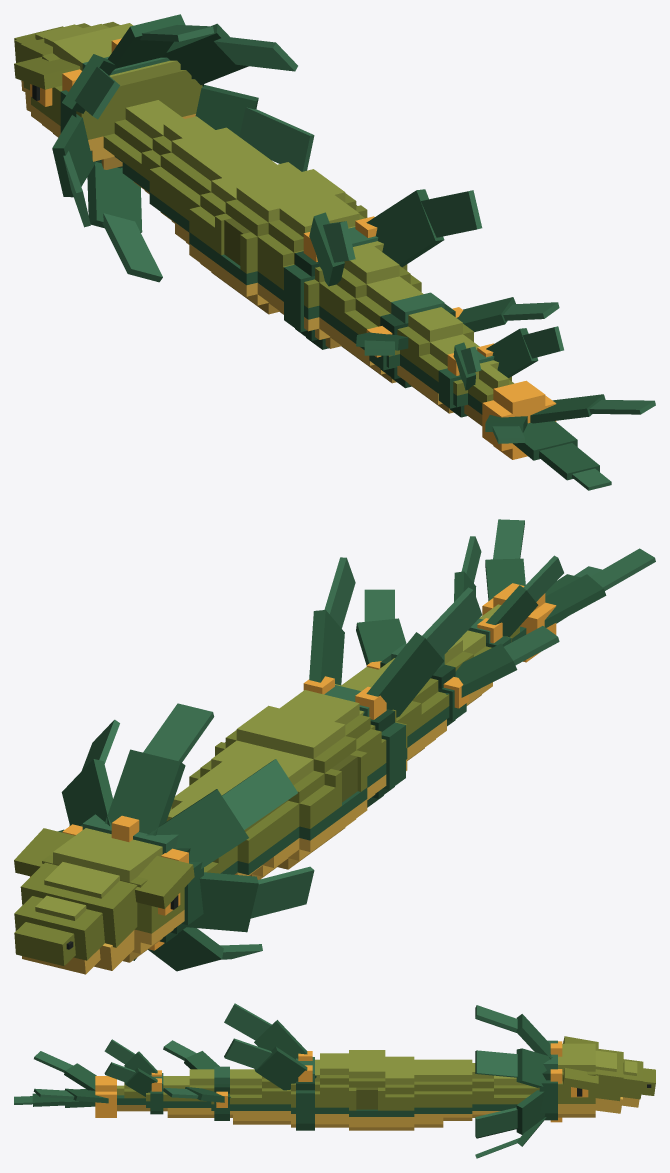
File: KelpWyrm.obj
3 views of the same model, one above another, from view 1: azimuth 30°, elevation 25°; view 2: azimuth 150°, elevation 25°; view 3: azimuth 270°, elevation 25° (orthographic). The views are drawn at different scales.
Visible parts, largest first — view 1: Head, S9, S7, S12, S15, S8, S10, S4, S6, S5, S11, S13 (+10 smaller); view 2: Head, S9, S7, S12, S6, S15, S8, S5, S4, RibL1, S11, S10 (+5 smaller); view 3: Head, S9, S7, S12, S15, S6, S8, S5, S4, S11, S10, S17 (+11 smaller).
Part boxes in pixels (box(x1,y1,x2,y2)): Head: box(14, 14, 314, 282); S9: box(283, 189, 482, 349); S7: box(215, 169, 367, 314); S12: box(356, 292, 559, 388); S15: box(438, 326, 563, 417); S8: box(257, 195, 364, 314); S10: box(319, 246, 421, 364); S4: box(149, 127, 251, 223); S6: box(189, 162, 301, 290); S5: box(175, 146, 276, 244); S11: box(344, 276, 423, 383); S13: box(400, 309, 473, 399); Head: box(14, 703, 314, 974); S9: box(303, 557, 481, 807); S7: box(215, 705, 367, 850); S12: box(356, 589, 559, 726); S6: box(189, 740, 335, 869); S15: box(454, 536, 563, 650); S8: box(280, 690, 381, 799); S5: box(197, 761, 299, 879); S4: box(170, 780, 273, 875); RibL1: box(544, 574, 606, 627); S11: box(378, 660, 446, 760); S10: box(341, 667, 421, 759); Head: box(475, 1005, 655, 1158); S9: box(224, 1003, 319, 1130); S7: box(349, 1050, 385, 1130); S12: box(163, 1040, 232, 1120); S15: box(104, 1039, 167, 1114); S6: box(385, 1056, 414, 1130); S8: box(320, 1053, 348, 1127); S5: box(414, 1059, 443, 1127); S4: box(443, 1059, 472, 1120); S11: box(233, 1069, 261, 1124); S10: box(262, 1076, 290, 1124); S17: box(95, 1076, 124, 1117).
Bounding box in the file's own units: 9.76 × 9.51 × 39.84.
1 material, 1 textured.
